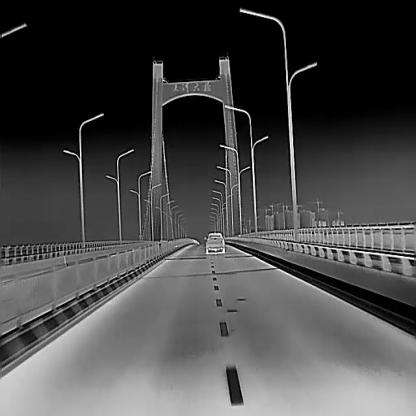car: (206, 232, 224, 253)
